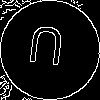U: (25, 25, 67, 75)
